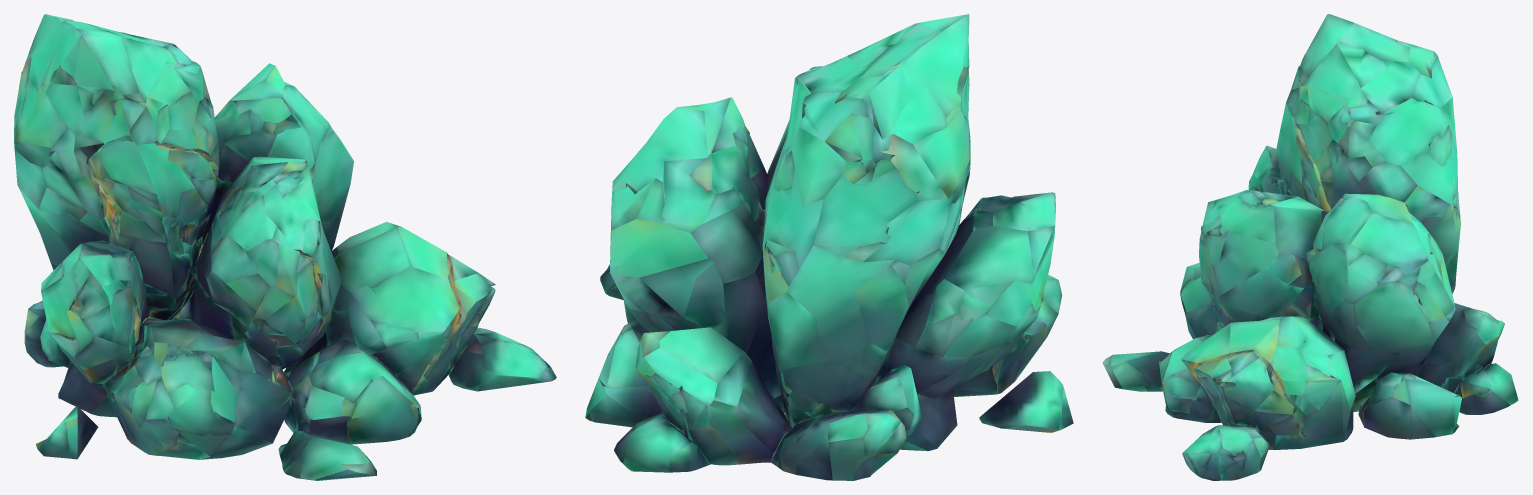
The model's file is prop-obsidian-rocks-lod2.glb.
3 views of the same model, side by side, from view 1: azimuth 30°, elevation 25°; view 2: azimuth 150°, elevation 25°; view 3: azimuth 270°, elevation 25° (orthographic). The views are drawn at different scales.
Visible parts, largest first — view 1: Mesh_0; view 2: Mesh_0; view 3: Mesh_0.
Boxes of the visible parts, <box> form: Mesh_0: <box>14,14,556,480</box>; Mesh_0: <box>585,14,1073,480</box>; Mesh_0: <box>1102,14,1518,480</box>.
Size of the model in its own units: 1.9 by 1.49 by 1.81.
1 material, 1 textured.
